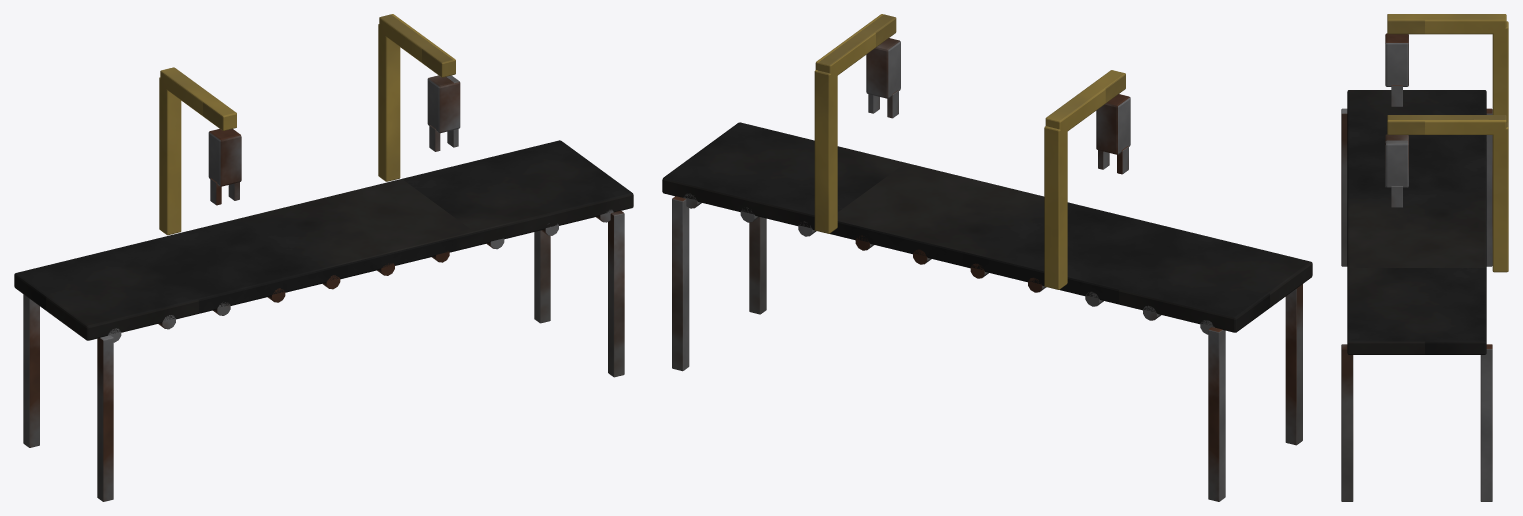
The model's file is HM05_assembly_line_module_v1.glb.
3 renders of one model, left to right at view 1: azimuth 30°, elevation 25°; view 2: azimuth 150°, elevation 25°; view 3: azimuth 270°, elevation 25°, orthographic. The views are drawn at different scales.
Parts seen in each view (by area): view 1: HM05_assembly_line_module_v1; view 2: HM05_assembly_line_module_v1; view 3: HM05_assembly_line_module_v1.
Boxes of the visible parts, x1=… form: HM05_assembly_line_module_v1: x1=14, y1=14, x2=633, y2=501; HM05_assembly_line_module_v1: x1=662, y1=14, x2=1312, y2=501; HM05_assembly_line_module_v1: x1=1341, y1=14, x2=1508, y2=501.
Size of the model in its own units: 3 by 1.75 by 0.84.
3 materials, 3 textured.
